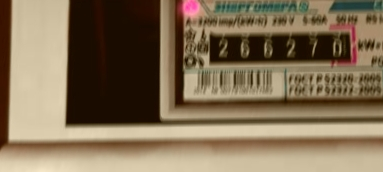0: (333, 39, 345, 56)
2: (218, 39, 231, 57), (287, 39, 298, 57)
6: (241, 39, 253, 58), (264, 40, 276, 58)
7: (310, 39, 321, 57)
screen: (200, 22, 364, 73)
